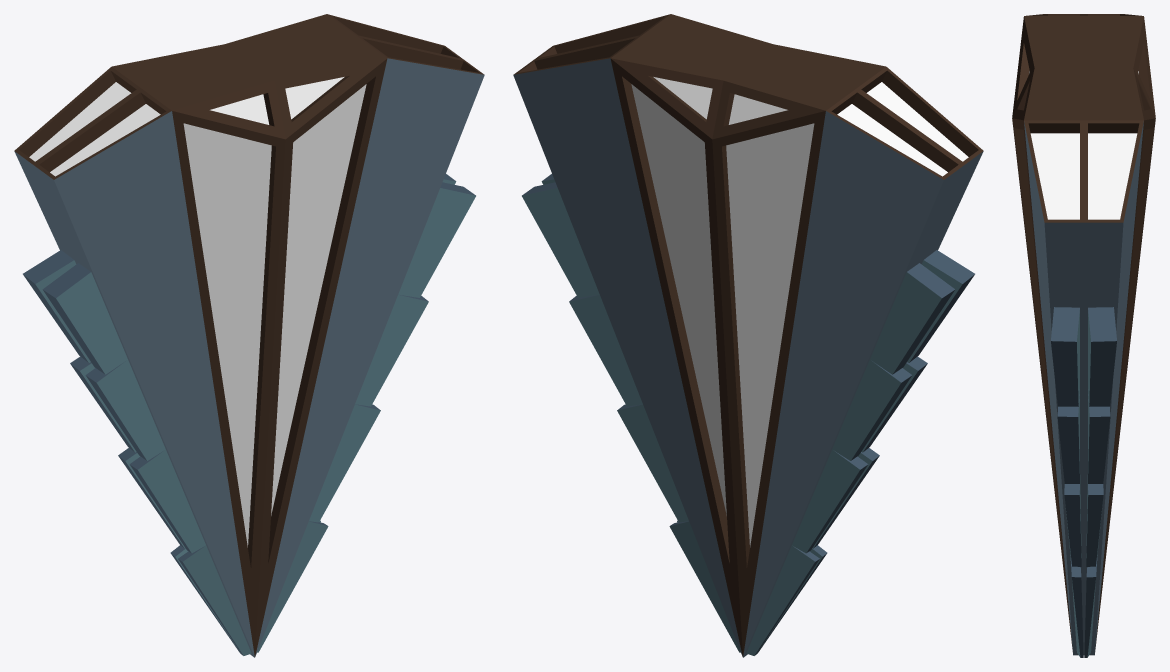
Rendered from Shield_low_poly_colored.obj.
The picture shows the model from 3 angles, left to right: view 1: azimuth 30°, elevation 25°; view 2: azimuth 150°, elevation 25°; view 3: azimuth 270°, elevation 25°; orthographic projection.
Visible parts, largest first — view 1: Shield_Cube; view 2: Shield_Cube; view 3: Shield_Cube.
Boxes of the visible parts, x1,y1,x2,y2 form: Shield_Cube: (14, 14, 484, 657); Shield_Cube: (513, 14, 983, 657); Shield_Cube: (1012, 14, 1155, 657).
Bounding box in the file's own units: 2.5 × 3.28 × 0.7279.
1 material, 1 textured.
